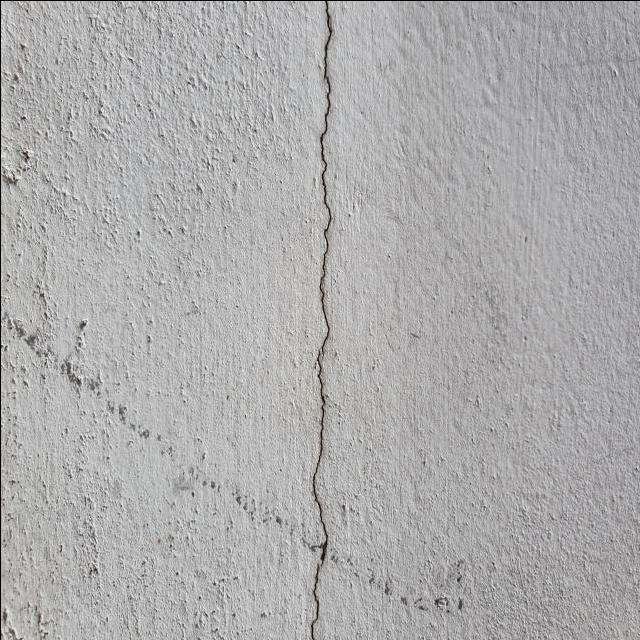SurfaceCrack: (256, 1, 378, 640)
